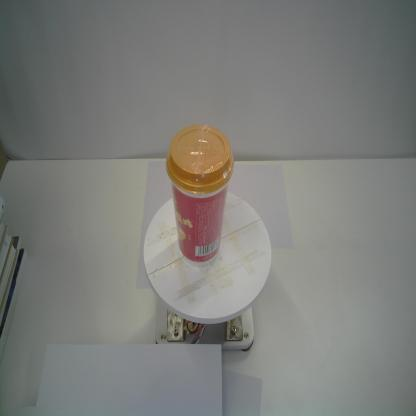Instant Drink: (165, 124, 236, 267)
